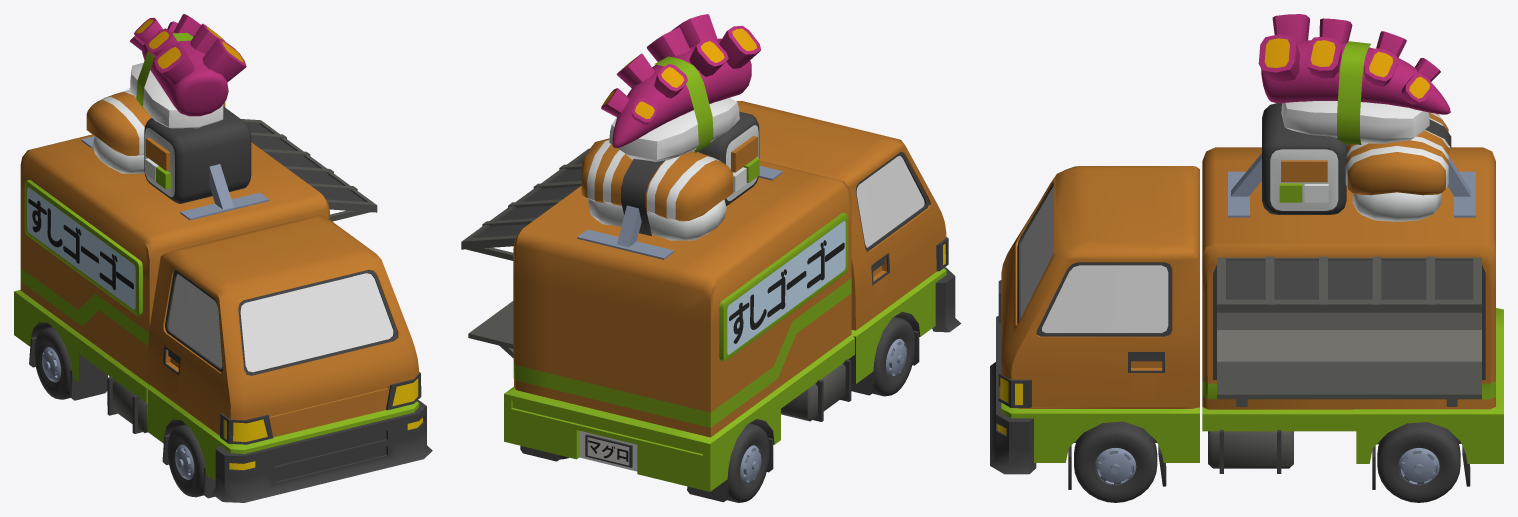
The model's file is pocha.glb.
3 renders of one model, left to right at view 1: azimuth 30°, elevation 25°; view 2: azimuth 150°, elevation 25°; view 3: azimuth 270°, elevation 25°, orthographic. The views are drawn at different scales.
Parts seen in each view (by area): view 1: body, wheel_fr, wheel_rr; view 2: body, wheel_rr, wheel_fr; view 3: body, wheel_fl, wheel_rl.
Boxes of the visible parts, x1,y1,x2,y2 form: body: [14, 14, 432, 502]; wheel_fr: [167, 424, 205, 497]; wheel_rr: [34, 327, 72, 399]; body: [461, 14, 961, 502]; wheel_rr: [727, 423, 769, 502]; wheel_fr: [872, 316, 915, 396]; body: [990, 14, 1503, 489]; wheel_fl: [1074, 421, 1157, 502]; wheel_rl: [1377, 422, 1460, 502].
Size of the model in its own units: 3.19 by 4.58 by 5.
3 materials, 1 textured.
